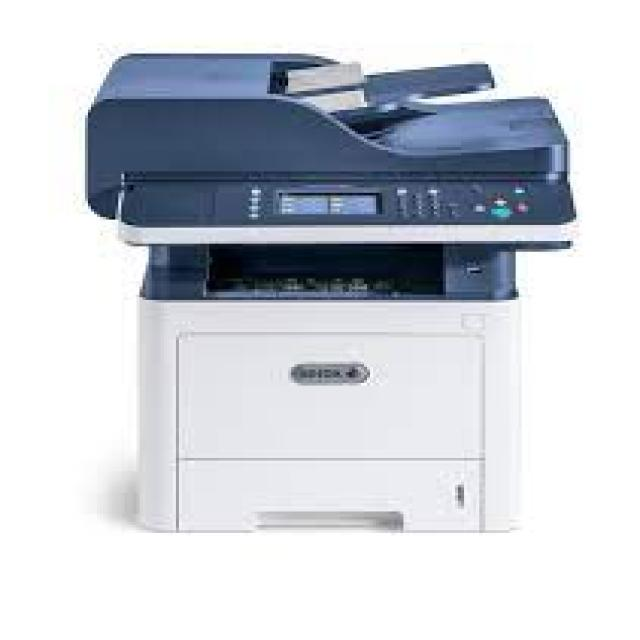printer: (64, 29, 598, 582)
